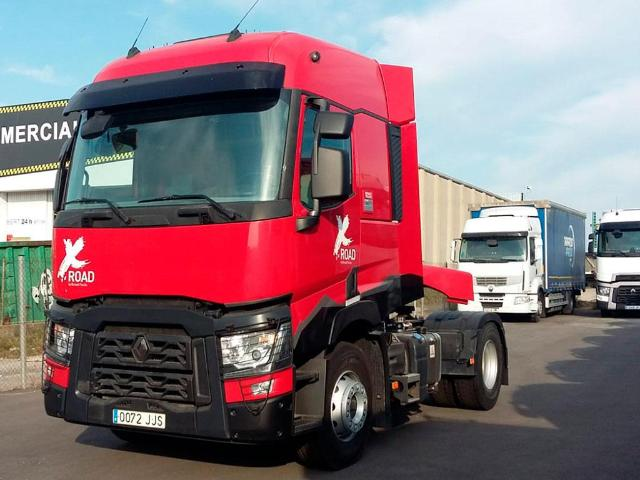truck: (51, 49, 510, 463), (456, 201, 588, 324), (588, 202, 640, 322)
